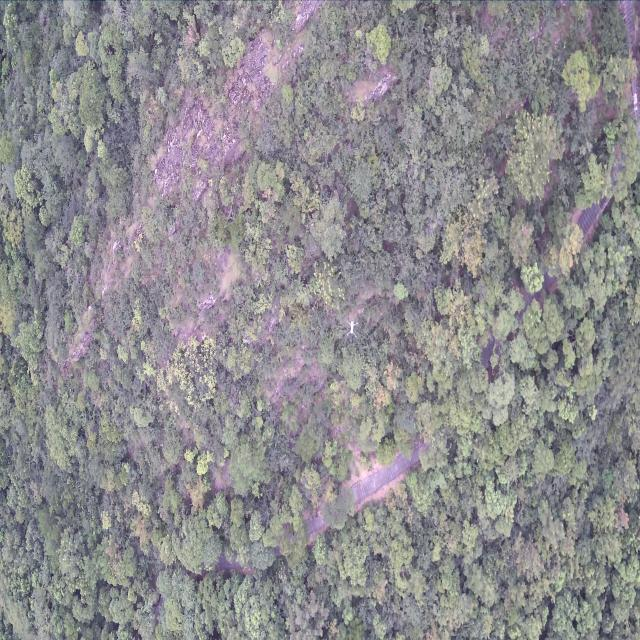drone: (346, 320, 358, 337)
